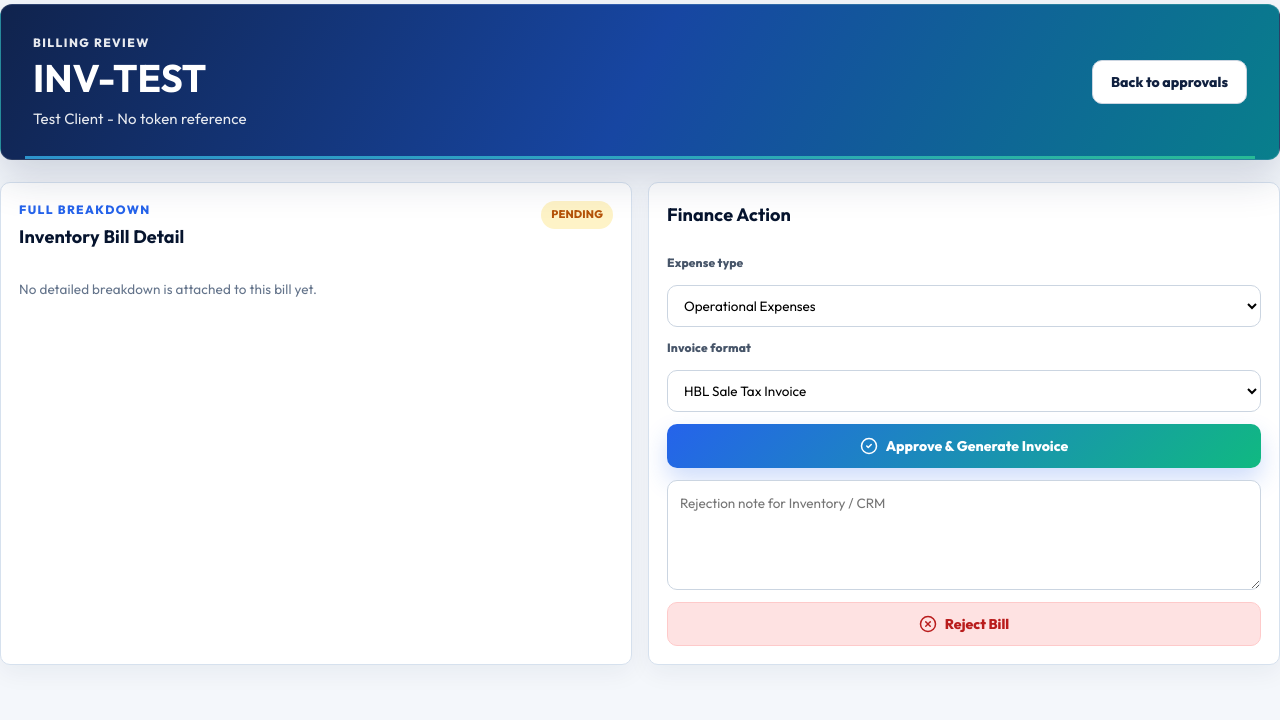
finance dedicated invoice workflow › opens the full invoice page immediately after approval
The image size is (1280, 720).
Click the button "Approve & Generate Invoice" at (964, 446), box x1=667 y1=424 x2=1261 y2=468
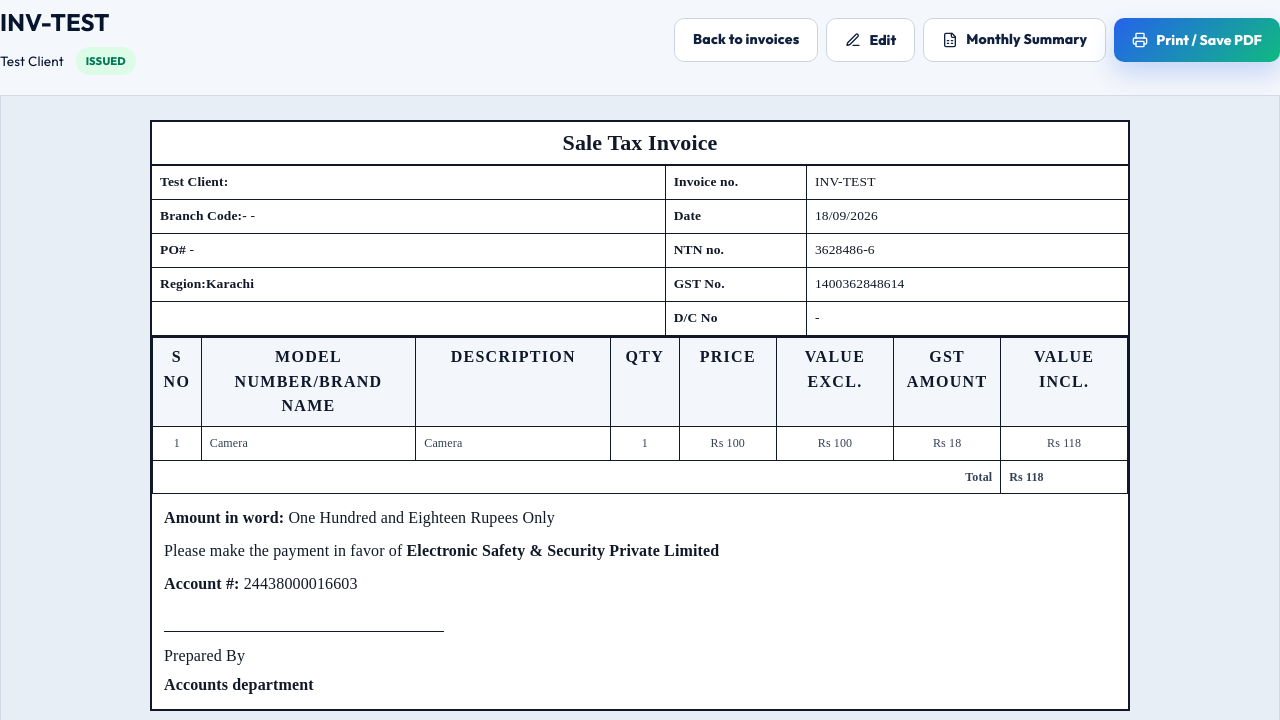
Result: the text "Sale Tax Invoice" is shown at x1=152 y1=122 x2=1128 y2=166
